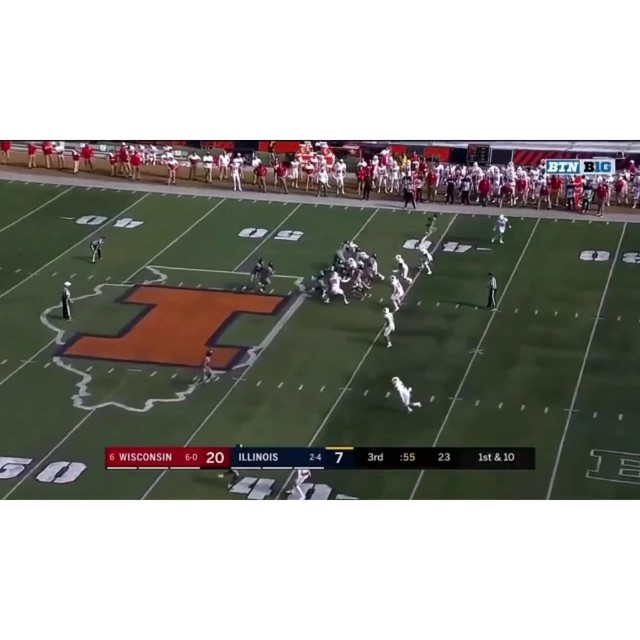american-football-player: (390, 376, 422, 412), (325, 271, 349, 306), (388, 273, 406, 313), (380, 306, 397, 348), (416, 243, 434, 276), (258, 261, 276, 293), (491, 214, 509, 244), (394, 254, 411, 285), (422, 213, 439, 238)
referee: (60, 281, 74, 322), (486, 271, 498, 310)
